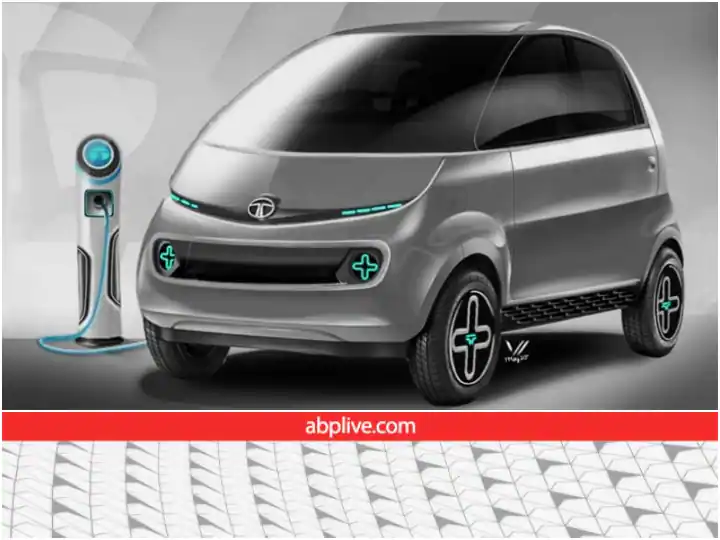Nano: (135, 14, 686, 407)
